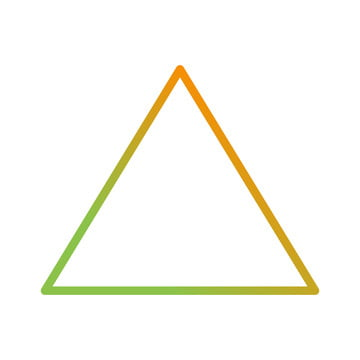triangulo: (40, 65, 319, 295)
